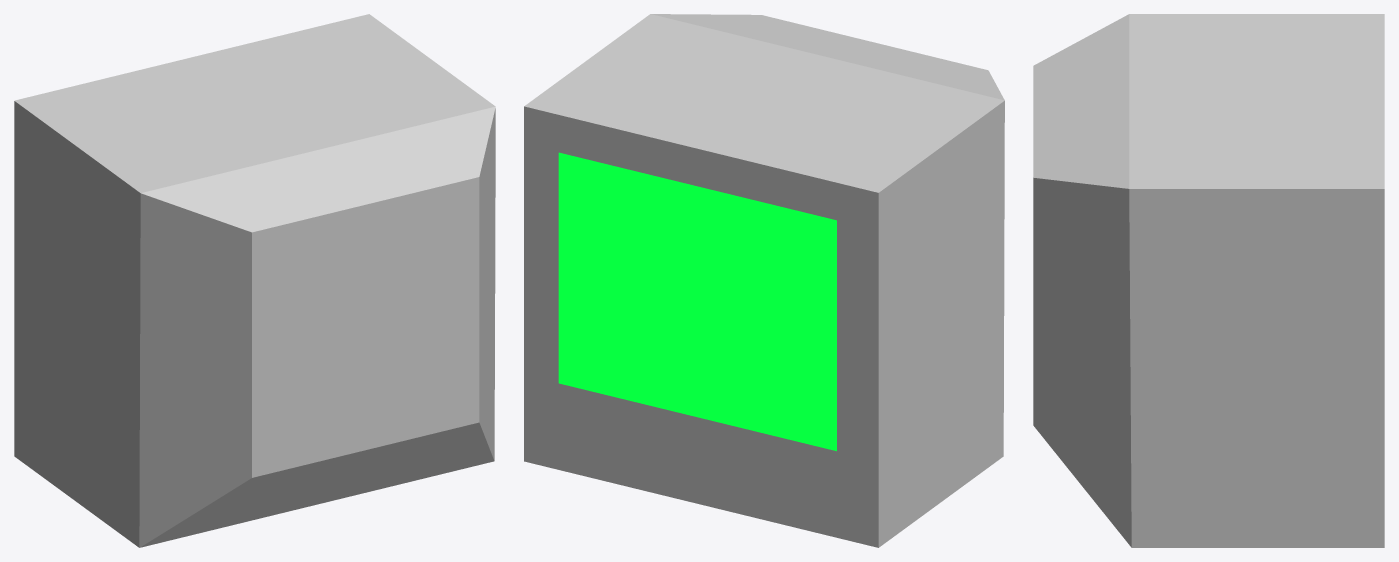
3 renders of one model, left to right at view 1: azimuth 30°, elevation 25°; view 2: azimuth 150°, elevation 25°; view 3: azimuth 270°, elevation 25°, orthographic.
Parts seen in each view (by area): view 1: Cube.174; view 2: Cube.174; view 3: Cube.174.
Boxes of the visible parts, left/top/right/bottom form: Cube.174: left=14, top=14, right=495, bottom=547; Cube.174: left=524, top=14, right=1004, bottom=547; Cube.174: left=1033, top=14, right=1384, bottom=547.
Bounding box in the file's own units: 1.58 × 1.52 × 1.34.
